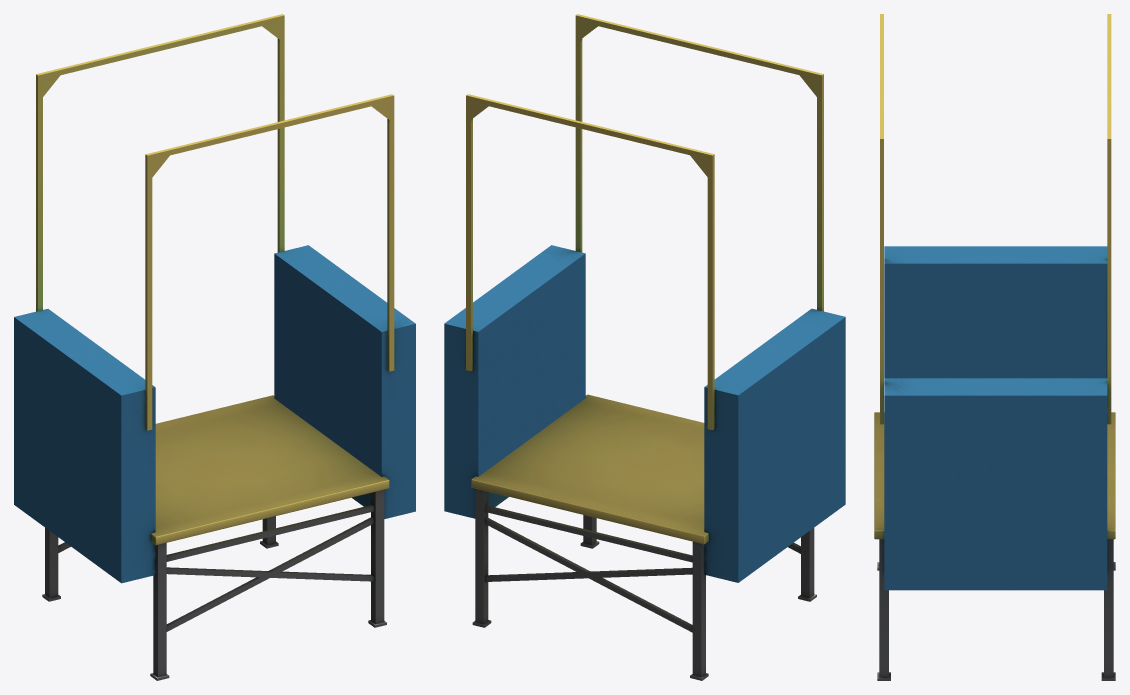
Rendered from machine.serva.146.obj.
3 views of the same model, side by side, from view 1: azimuth 30°, elevation 25°; view 2: azimuth 150°, elevation 25°; view 3: azimuth 270°, elevation 25° (orthographic). The views are drawn at different scales.
Parts seen in each view (by area): view 1: chapanji; view 2: chapanji; view 3: chapanji.
Part boxes in pixels (left/top/right/bottom): chapanji: left=14, top=14, right=415, bottom=680; chapanji: left=444, top=14, right=845, bottom=680; chapanji: left=874, top=14, right=1115, bottom=680.
Bounding box in the file's own units: 199 × 339 × 136.
